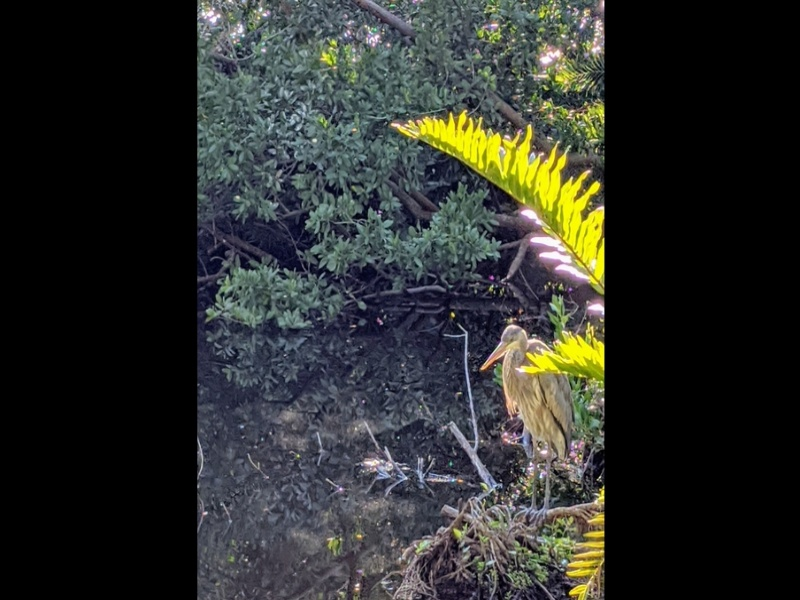heron: (479, 319, 582, 539)
